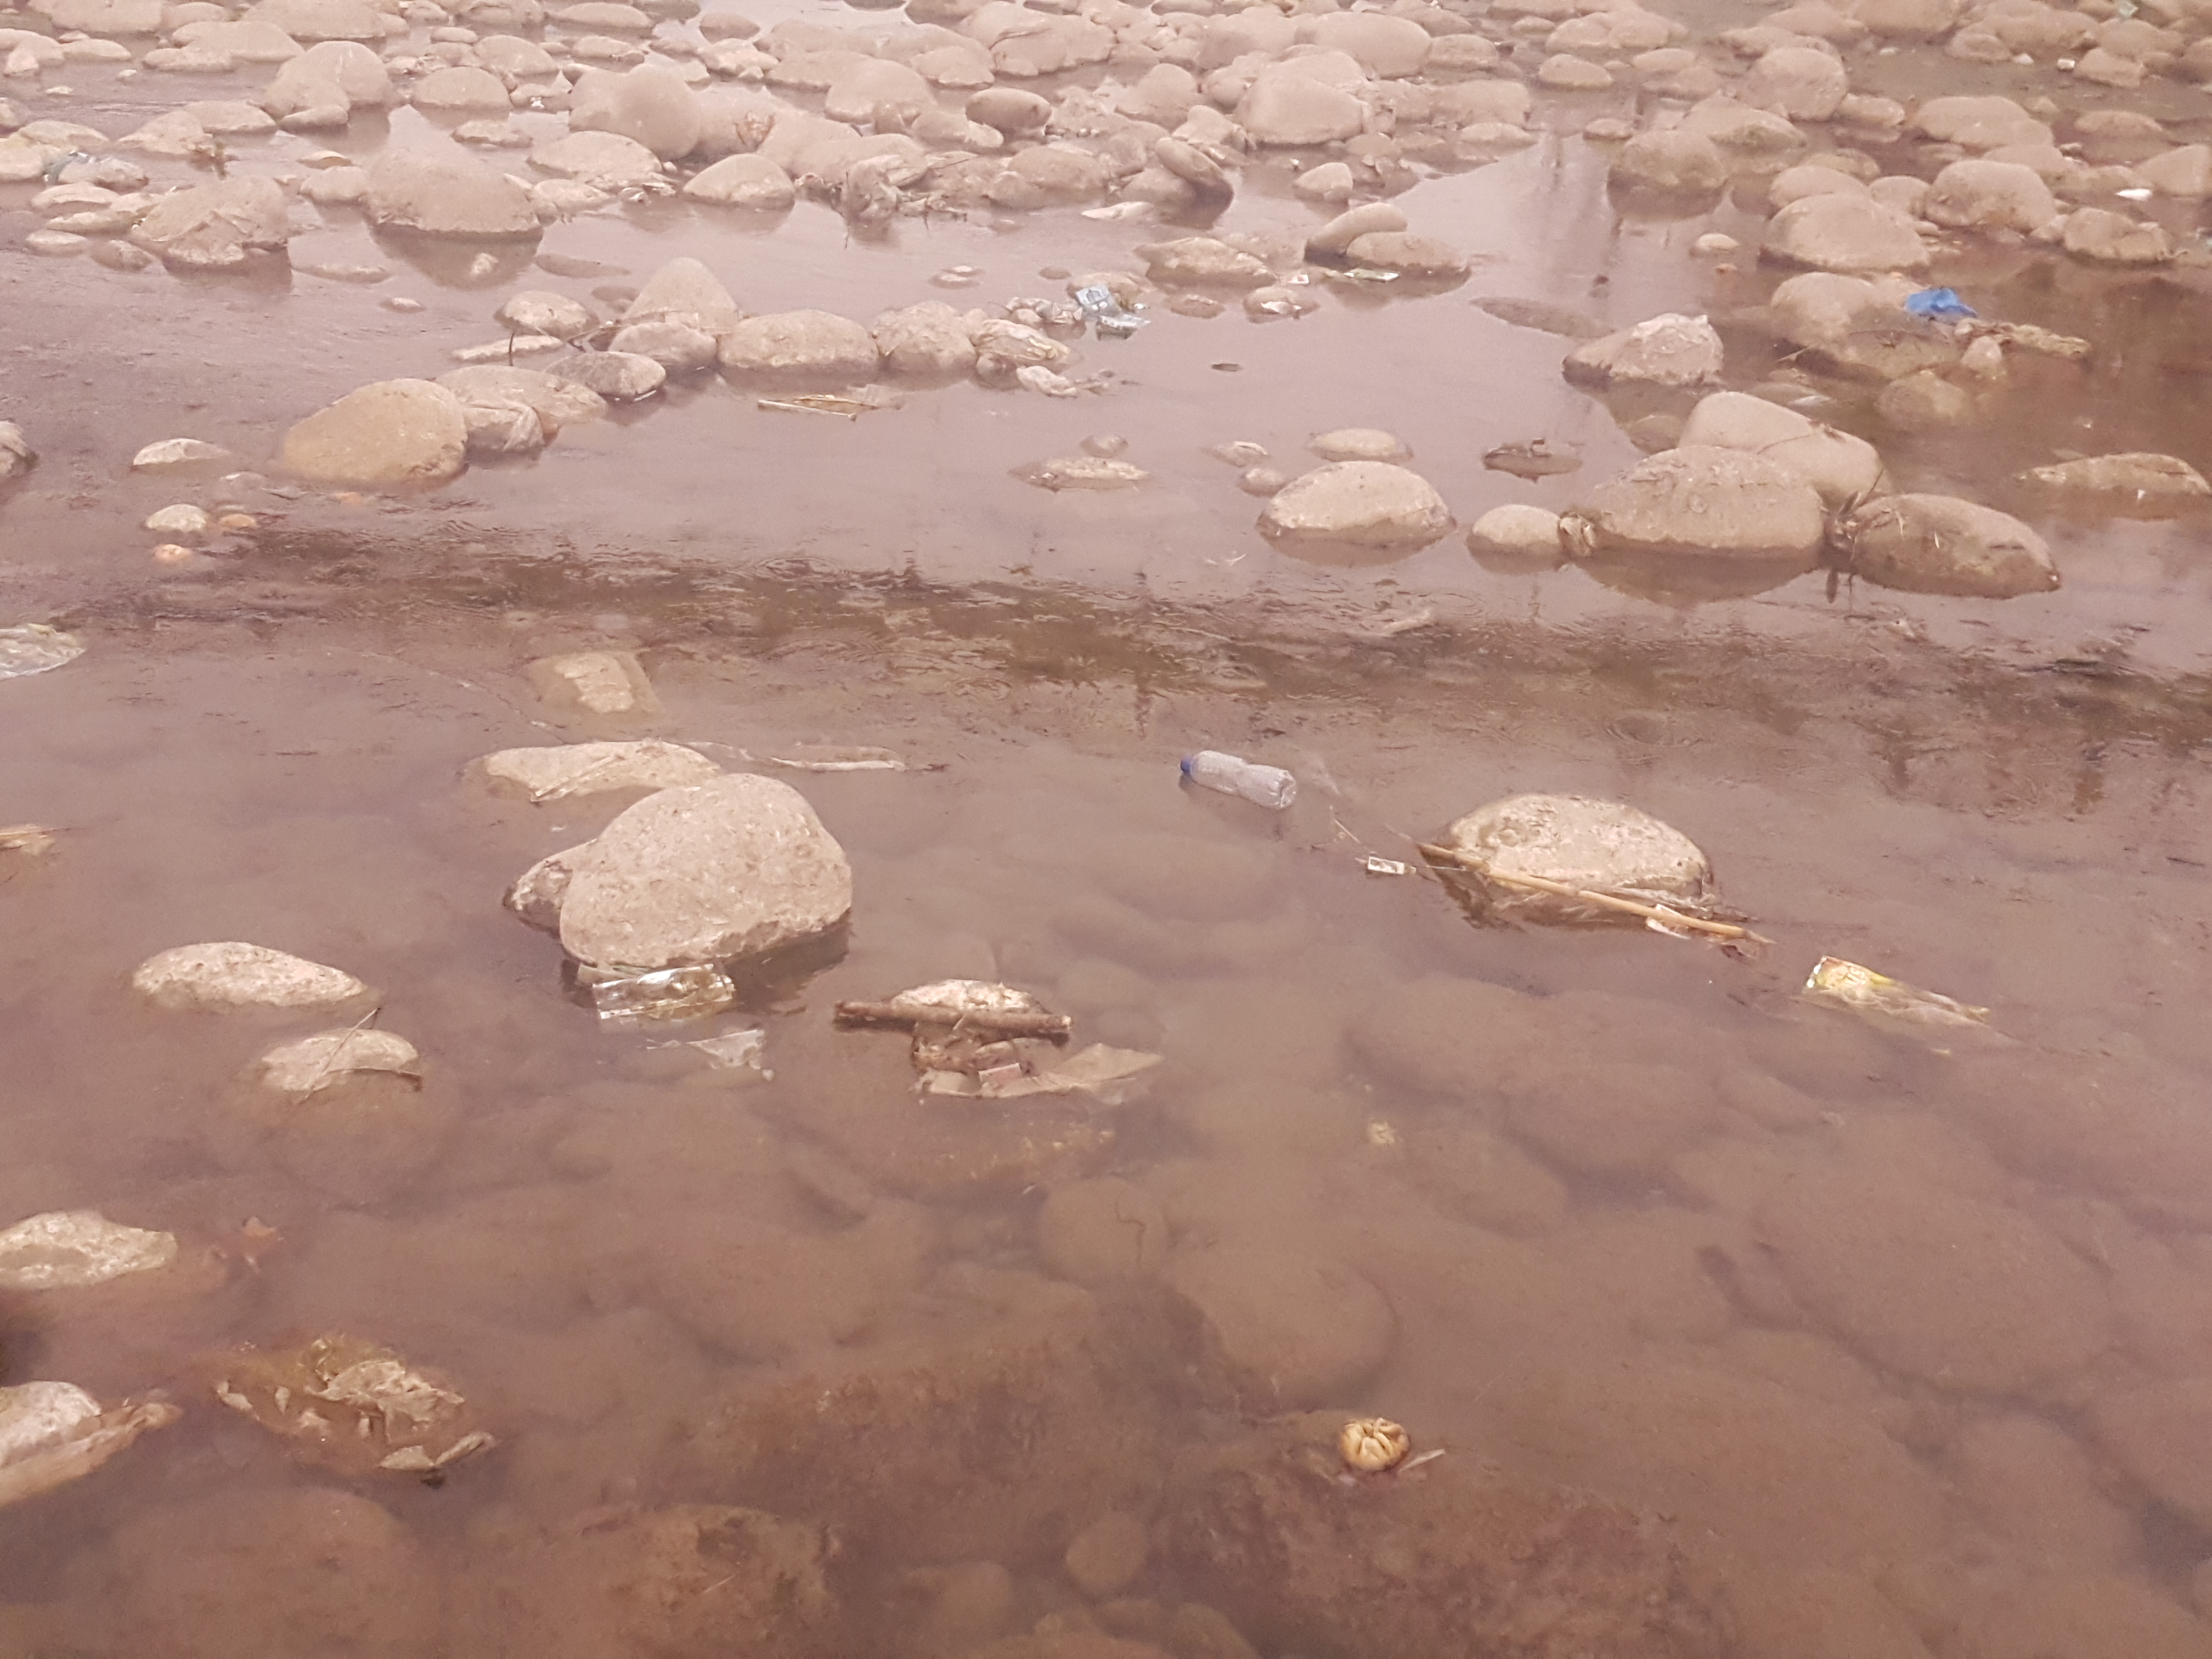Plastic Bottle: (1181, 749, 1296, 810), (1015, 364, 1075, 399)
